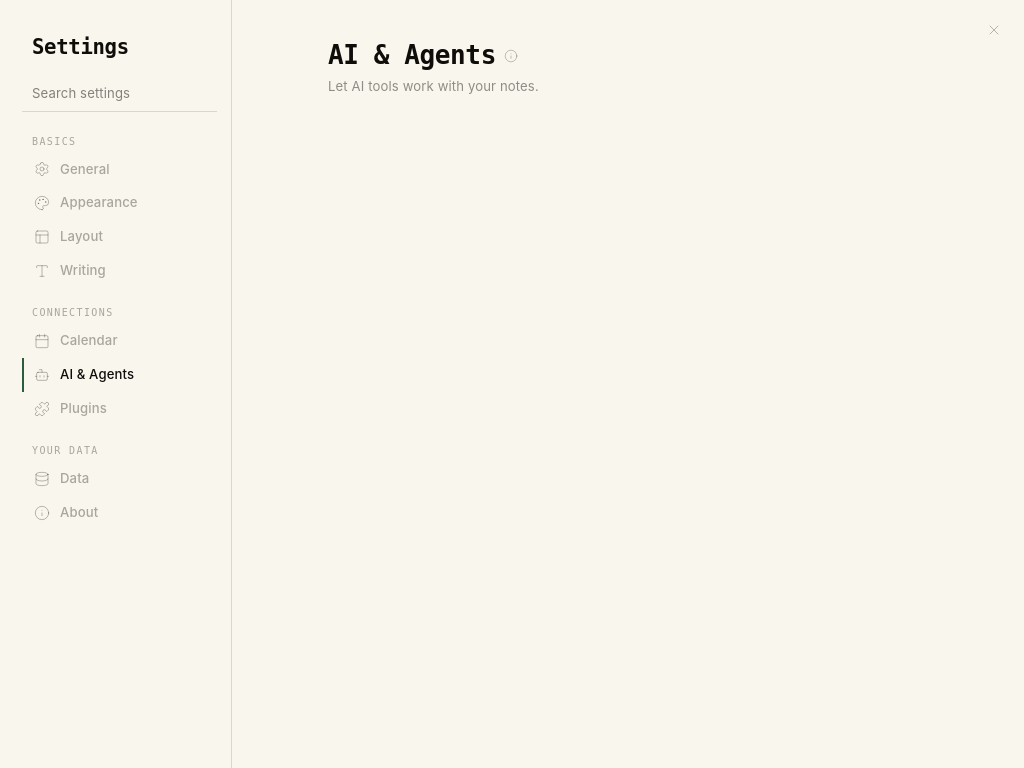
Test: SettingsModal on the desktop › explains AI & Agents in an (i) by the title, not a block above the controls
Step 1. Click the button named "About AI & Agents" → {"x": 511, "y": 56}, box top-left (500, 45), bottom-right (522, 67)
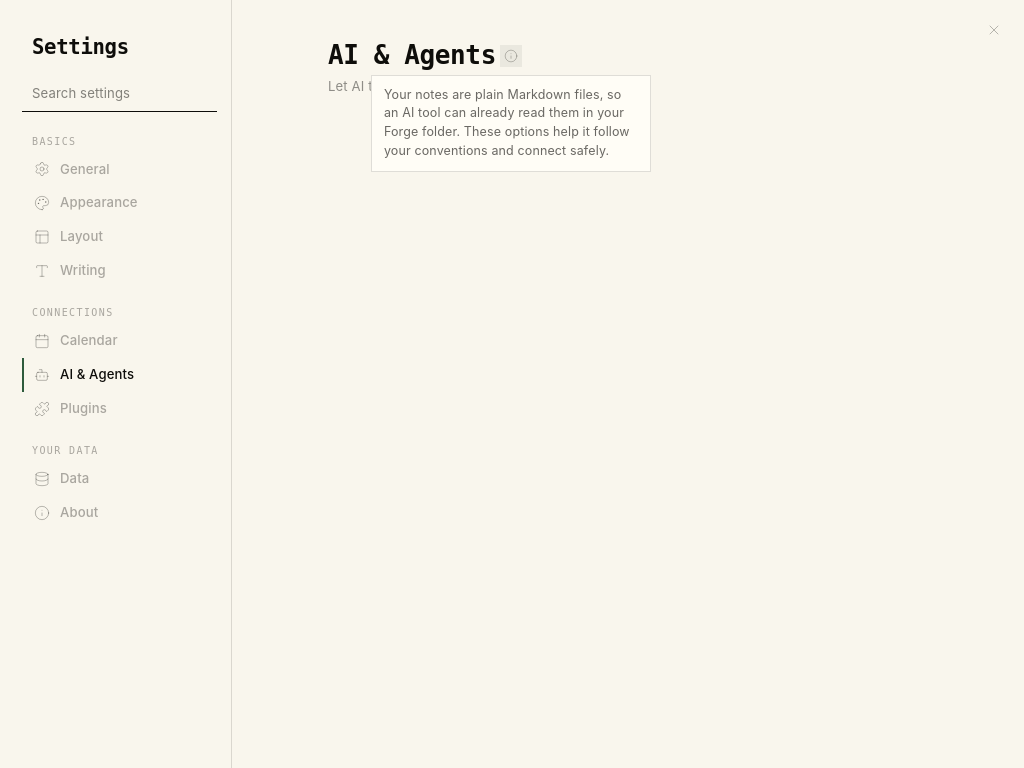
Expected: the tooltip shows "plain Markdown files", top-left (384, 87), bottom-right (630, 158)
